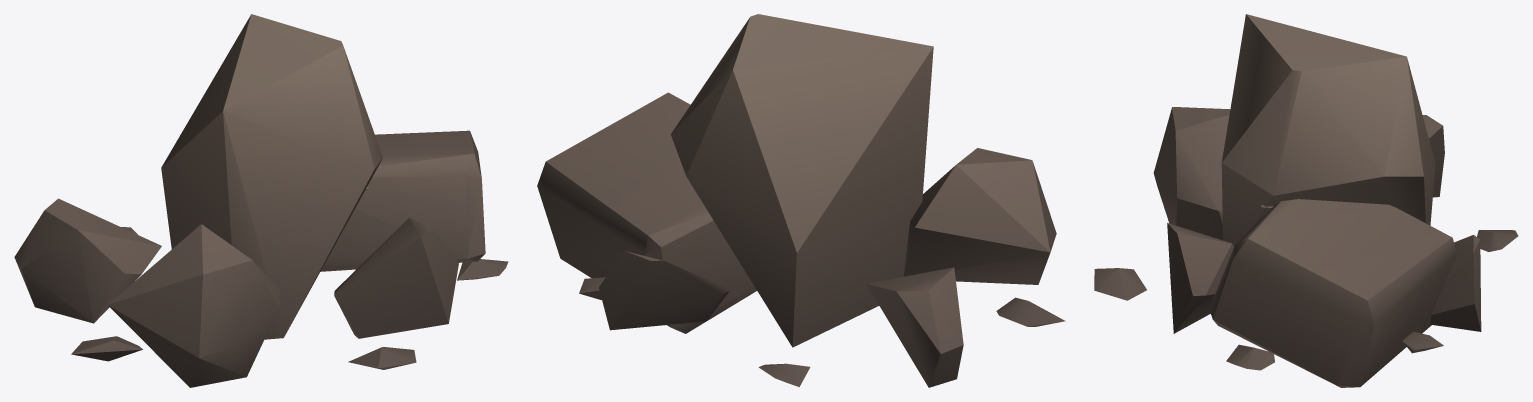
File: rubble_large.glb
3 renders of one model, left to right at view 1: azimuth 30°, elevation 25°; view 2: azimuth 150°, elevation 25°; view 3: azimuth 270°, elevation 25°, orthographic. The views are drawn at different scales.
Parts seen in each view (by area): view 1: rubble_large; view 2: rubble_large; view 3: rubble_large.
Boxes of the visible parts, x1,y1,x2,y2 form: rubble_large: (14,14,508,387); rubble_large: (537,14,1065,387); rubble_large: (1094,14,1518,387).
Bounding box in the file's own units: 1.72 × 0.9383 × 1.41.
1 material, 1 textured.
